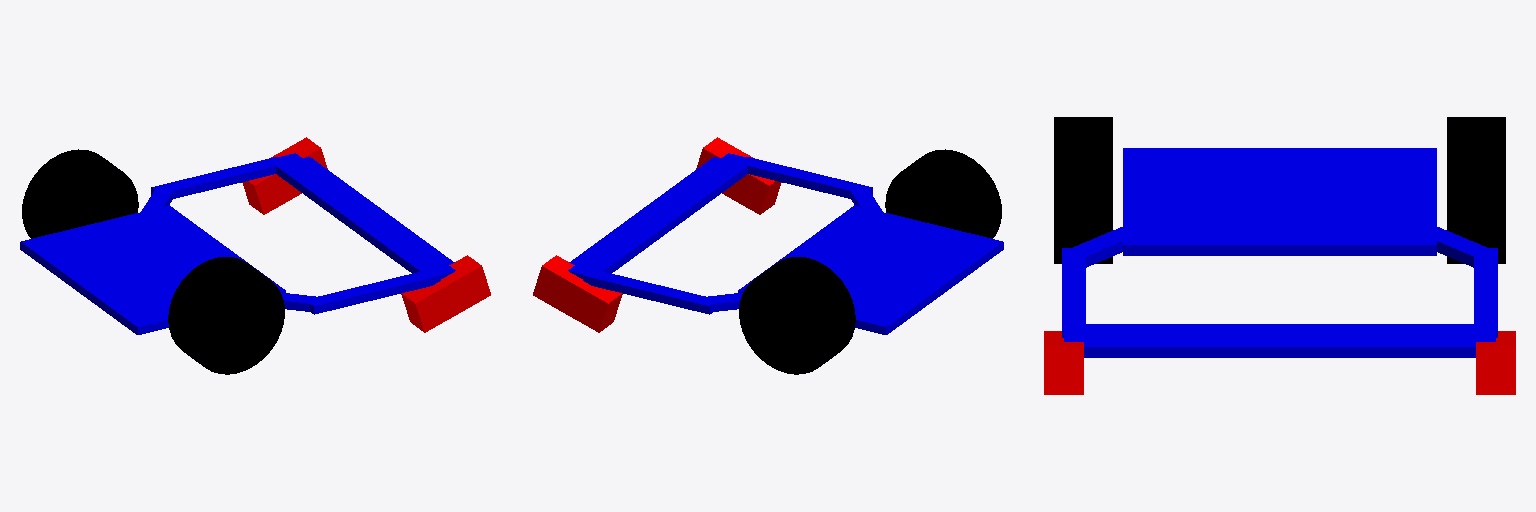
The robot description file, URDF, robot "line_follower":
<?xml version="1.0"?>
<robot name="line_follower">
 	<material name="red">
        <color rgba="1 0 0 1"/>
    </material>

    <material name="blue">
        <color rgba="0 0 1 1"/>
    </material>
  
    <material name="green">
        <color rgba="0 1 0 1"/>
    </material>  

    <material name="black">
        <color rgba="0 0 0 1"/>
    </material>


  
  
	<link name="main_board_0">
    	<visual>
      		<geometry>
        		<box size="0.047 0.064 0.0025"/>
      		</geometry>
            <material name ="blue"/>
		</visual>
  
  		<collision>
        	<geometry>
        		<box size="0.047 0.064 0.0025"/>
            </geometry>
        </collision>

        <contact>
          <lateral_friction value="0.0"/>
          <rolling_friction value="0.0"/>
          <stiffness value="300000"/>
          <damping value="1000"/>
        </contact>
  
   		<inertial>
            <mass value="0.053"/>
            <inertia ixx="0.0" ixy="0.0" ixz="0.0" iyy="0.0" iyz="0.0" izz="6e-4"/>
        </inertial>
	</link>


	<link name="main_board_1">
    	<visual>
      		<geometry>
         		<box size="0.011 0.088 0.0025"/>
      		</geometry>
          	<material name ="blue"/>
    	</visual>


	    <collision>
        	<geometry>
        		<box size="0.011 0.088 0.0025"/>
            </geometry>
        </collision>

        <contact>
          <lateral_friction value="0.0"/>
          <rolling_friction value="0.0"/>
          <stiffness value="300000"/>
          <damping value="1000"/>
        </contact>
  
   		<inertial>
            <mass value="0.01"/>
            <inertia ixx="0.0" ixy="0.0" ixz="0.0" iyy="0.0" iyz="0.0" izz="6e-4"/>
        </inertial>
	</link>



    <link name="main_board_left_a">
    	<visual>
      		<geometry>
         		<box size="0.04 0.005 0.0025"/>
      		</geometry>
          	<material name ="blue"/>
    	</visual>

	    <collision>
        	<geometry>
        		<box size="0.04 0.005 0.0025"/>
            </geometry>
        </collision>

        <contact>
          <lateral_friction value="0.0"/>
          <rolling_friction value="0.0"/>
          <stiffness value="300000"/>
          <damping value="1000"/>
        </contact>
  
   		<inertial>
            <mass value="0.0"/>
            <inertia ixx="0.0" ixy="0.0" ixz="0.0" iyy="0.0" iyz="0.0" izz="6e-4"/>
        </inertial>
	</link>



	<link name="main_board_left_b">
    	<visual>
      		<geometry>
         		<box size="0.02 0.005 0.0025"/>
      		</geometry>
          	<material name ="blue"/>
    	</visual>

	    <collision>
        	<geometry>
        		<box size="0.02 0.005 0.0025"/>
            </geometry>
        </collision>

        <contact>
          <lateral_friction value="0.0"/>
          <rolling_friction value="0.0"/>
          <stiffness value="300000"/>
          <damping value="1000"/>
        </contact>
  
   		<inertial>
            <mass value="0.0"/>
            <inertia ixx="0.0" ixy="0.0" ixz="0.0" iyy="0.0" iyz="0.0" izz="6e-4"/>
        </inertial>
	</link>




    <link name="main_board_right_a">
    	<visual>
      		<geometry>
         		<box size="0.04 0.005 0.0025"/>
      		</geometry>
          	<material name ="blue"/>
    	</visual>

	    <collision>
        	<geometry>
        		<box size="0.04 0.005 0.0025"/>
            </geometry>
        </collision>

        <contact>
          <lateral_friction value="0.0"/>
          <rolling_friction value="0.0"/>
          <stiffness value="300000"/>
          <damping value="1000"/>
        </contact>
  
   		<inertial>
            <mass value="0.0"/>
            <inertia ixx="0.0" ixy="0.0" ixz="0.0" iyy="0.0" iyz="0.0" izz="6e-4"/>
        </inertial>
	</link>



	<link name="main_board_right_b">
    	<visual>
      		<geometry>
         		<box size="0.02 0.005 0.0025"/>
      		</geometry>
          	<material name ="blue"/>
    	</visual>

	    <collision>
        	<geometry>
        		<box size="0.02 0.005 0.0025"/>
            </geometry>
        </collision>

        <contact>
          <lateral_friction value="0.0"/>
          <rolling_friction value="0.0"/>
          <stiffness value="300000"/>
          <damping value="1000"/>
        </contact>
  
   		<inertial>
            <mass value="0.0"/>
            <inertia ixx="0.0" ixy="0.0" ixz="0.0" iyy="0.0" iyz="0.0" izz="6e-4"/>
        </inertial>
	</link>


	<link name="front_left">
    	<visual>
      		<geometry>
         		<box size="0.022 0.008 0.01"/>
      		</geometry>
            <material name ="red"/>
    	</visual>

 		<collision>
			<geometry>
         		<box size="0.022 0.008 0.01"/>
      		</geometry>
        </collision>

        <contact>
          <lateral_friction value="0.0"/>
          <rolling_friction value="0.0"/>
          <stiffness value="300000"/>
          <damping value="1000"/>
        </contact>

        <inertial>
            <mass value="0.0005"/>
            <inertia ixx="0.0" ixy="0.0" ixz="0.0" iyy="0.0" iyz="0.0" izz="0.0"/>
        </inertial>
	</link>


	<link name="front_right">
    	<visual>
      		<geometry>
         		<box size="0.022 0.008 0.01"/>
      		</geometry>
            <material name ="red"/>
    	</visual>

 		<collision>
			<geometry>
         		<box size="0.022 0.008 0.01"/>
      		</geometry>
        </collision>

        <contact>
          <lateral_friction value="0.0"/>
          <rolling_friction value="0.0"/>
          <stiffness value="300000"/>
          <damping value="1000"/>
        </contact>

        <inertial>
            <mass value="0.0005"/>
            <inertia ixx="0.0" ixy="0.0" ixz="0.0" iyy="0.0" iyz="0.0" izz="0.0"/>
        </inertial>
	</link>



	<link name="left_wheel">
        <visual>
            <geometry>
                <cylinder length="0.012" radius="0.015"/>
            </geometry>
            <material name="black"/>
        </visual>
        <collision>
            <geometry>
                <cylinder length="0.012" radius="0.015"/>
            </geometry>
        </collision>
        <contact>
          <lateral_friction value="0.8"/>
          <rolling_friction value="0.0"/>
          <stiffness value="300000"/>
          <damping value="50"/>
        </contact>
        <inertial>
            <mass value="0.001"/>
            <inertia ixx="0.0" ixy="0.0" ixz="0.0" iyy="0.0" iyz="0.0" izz="1e-6"/>
        </inertial>
    </link>

    

	<link name="right_wheel">
        <visual>
            <geometry>
                <cylinder length="0.012" radius="0.015"/>
            </geometry>
            <material name="black"/>
        </visual>
        <collision>
            <geometry>
                <cylinder length="0.012" radius="0.015"/>
            </geometry>
        </collision>
        <contact>
          <lateral_friction value="0.8"/>
          <rolling_friction value="0.0"/>
          <stiffness value="300000"/>
          <damping value="50"/>
        </contact>
        <inertial>
            <mass value="0.001"/>
            <inertia ixx="0.0" ixy="0.0" ixz="0.0" iyy="0.0" iyz="0.0" izz="1e-6"/>
        </inertial>
    </link>







	 <joint name="main_board_0_left_wheel" type="continuous">
        <parent link="main_board_0"/>
        <child link="left_wheel"/>
        <origin rpy="-1.5708 0.0 0" xyz="0.0 0.04 0.0025"/>
        <axis xyz="0 0 1"/>
     </joint>


    <joint name="main_board_0_right_wheel" type="continuous">
        <parent link="main_board_0"/>
        <child link="right_wheel"/>
        <origin rpy="1.5708 0.0 0" xyz="0.0 -0.04 0.0025"/>
        <axis xyz="0 0 -1"/>
     </joint>




	<joint name="main_board_0_main_board_1" type="fixed">
		<parent link="main_board_0"/>
		<child link="main_board_1"/>
        <origin rpy="0 0 0" xyz="0.067 0.0 0.0"/>
 	</joint>

	<joint name="main_board_1_front_0" type="fixed">
		<parent link="main_board_1"/>
		<child link="front_left"/>
        <origin rpy="0 -0.3 0" xyz="0.0 0.044 -0.005"/>
 	</joint>

	<joint name="main_board_1_front_1" type="fixed">
		<parent link="main_board_1"/>
		<child link="front_right"/>
        <origin rpy="0 -0.3 0" xyz="0.0 -0.044 -0.005"/>
 	</joint>


    <joint name="main_board_0_main_board_left_a" type="fixed">
		<parent link="main_board_0"/>
		<child link="main_board_left_a"/>
        <origin rpy="0 0 0" xyz="0.045 0.042 0.0"/>
 	</joint>

    <joint name="main_board_0_main_board_left_b" type="fixed">
		<parent link="main_board_0"/>
		<child link="main_board_left_b"/>
        <origin rpy="0 0 0.785" xyz="0.021 0.035 0.0"/>
 	</joint>

    <joint name="main_board_0_main_board_right_a" type="fixed">
		<parent link="main_board_0"/>
		<child link="main_board_right_a"/>
        <origin rpy="0 0 0" xyz="0.045 -0.042 0.0"/>
 	</joint>

    <joint name="main_board_0_main_board_right_b" type="fixed">
		<parent link="main_board_0"/>
		<child link="main_board_right_b"/>
        <origin rpy="0 0 -0.785" xyz="0.021 -0.035 0.0"/>
 	</joint>

</robot>

--- Render facts (derived) ---
3 views of the same robot in one strip: view 1: azimuth 30°, elevation 25°; view 2: azimuth 150°, elevation 25°; view 3: azimuth 270°, elevation 25° (orthographic).
Model line_follower with 10 links and 9 joints (2 continuous, 7 fixed), rooted at main_board_0, posed every joint at zero.
Links seen in each view (by area): view 1: main_board_0, right_wheel, left_wheel, main_board_1, front_right, main_board_right_a, front_left, main_board_left_a; view 2: main_board_0, left_wheel, right_wheel, main_board_1, front_left, main_board_left_a, front_right, main_board_right_a; view 3: main_board_0, main_board_1, left_wheel, right_wheel, front_left, front_right, main_board_left_a, main_board_right_a, main_board_left_b, main_board_right_b.
Link boxes in pixels (x1=…): main_board_0: x1=20, y1=205, x2=285, y2=334; right_wheel: x1=168, y1=257, x2=284, y2=374; left_wheel: x1=22, y1=149, x2=138, y2=238; main_board_1: x1=273, y1=153, x2=455, y2=278; front_right: x1=401, y1=255, x2=490, y2=332; main_board_right_a: x1=306, y1=269, x2=440, y2=314; front_left: x1=242, y1=137, x2=327, y2=214; main_board_left_a: x1=151, y1=157, x2=283, y2=198; main_board_0: x1=738, y1=205, x2=1003, y2=334; left_wheel: x1=739, y1=257, x2=855, y2=374; right_wheel: x1=885, y1=149, x2=1001, y2=238; main_board_1: x1=568, y1=153, x2=750, y2=278; front_left: x1=533, y1=255, x2=622, y2=332; main_board_left_a: x1=583, y1=269, x2=717, y2=314; front_right: x1=696, y1=137, x2=781, y2=214; main_board_right_a: x1=739, y1=157, x2=872, y2=198; main_board_0: x1=1123, y1=148, x2=1436, y2=255; main_board_1: x1=1064, y1=324, x2=1495, y2=357; left_wheel: x1=1447, y1=117, x2=1505, y2=263; right_wheel: x1=1054, y1=117, x2=1112, y2=263; front_left: x1=1476, y1=331, x2=1515, y2=394; front_right: x1=1044, y1=331, x2=1083, y2=394; main_board_left_a: x1=1474, y1=248, x2=1497, y2=337; main_board_right_a: x1=1062, y1=248, x2=1085, y2=337; main_board_left_b: x1=1412, y1=227, x2=1489, y2=267; main_board_right_b: x1=1071, y1=227, x2=1147, y2=267.
Size in the robot's own frame: 0.1025 by 0.096 by 0.0305 metres.
Geometry: primitives only (box / cylinder / sphere), no mesh files.
